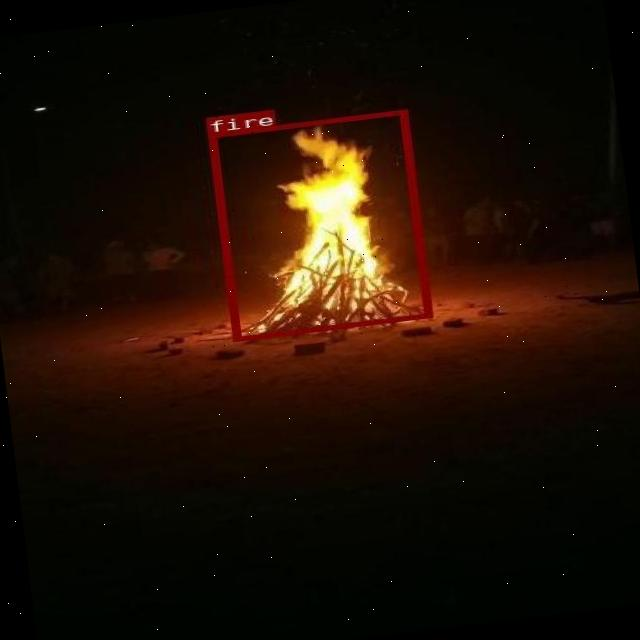fire: (208, 109, 430, 340)
